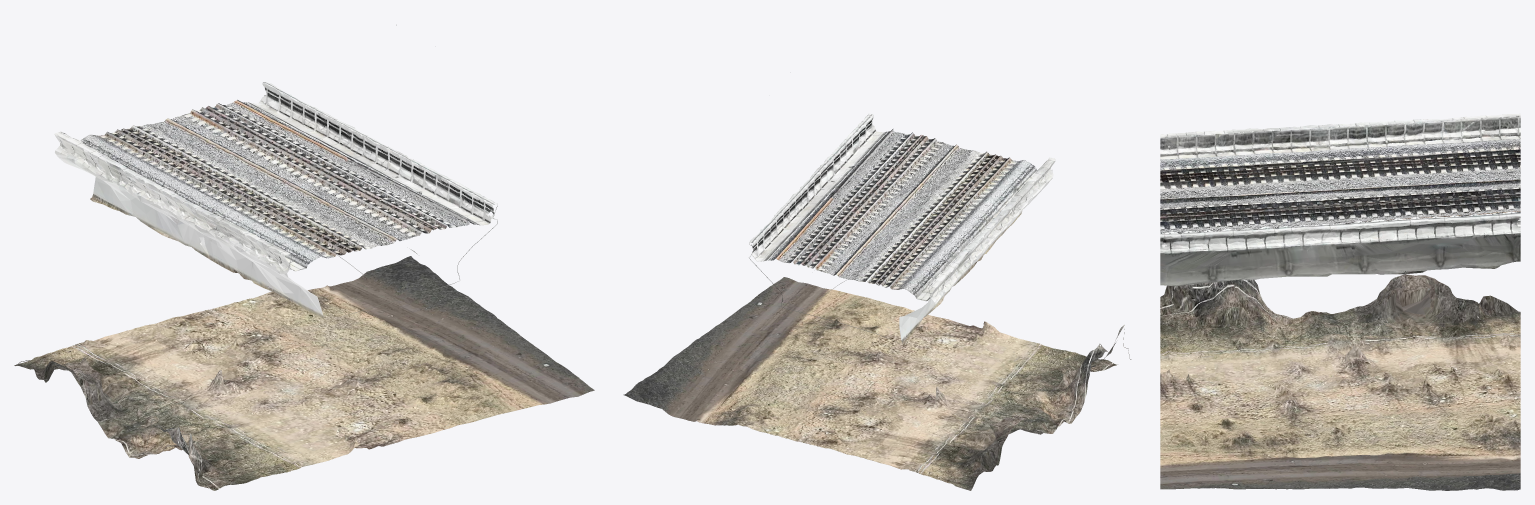
File: Block_L21_715.glb
3 views of the same model, side by side, from view 1: azimuth 30°, elevation 25°; view 2: azimuth 150°, elevation 25°; view 3: azimuth 270°, elevation 25° (orthographic). The views are drawn at different scales.
Parts seen in each view (by area): view 1: rtc; view 2: rtc; view 3: rtc.
Part boxes in pixels (<box>): rtc: <box>14,24,594,490</box>; rtc: <box>623,113,1131,490</box>; rtc: <box>1160,113,1520,490</box>.
Size of the model in its own units: 23.48 by 19.04 by 18.83.
4 materials, 4 textured.
